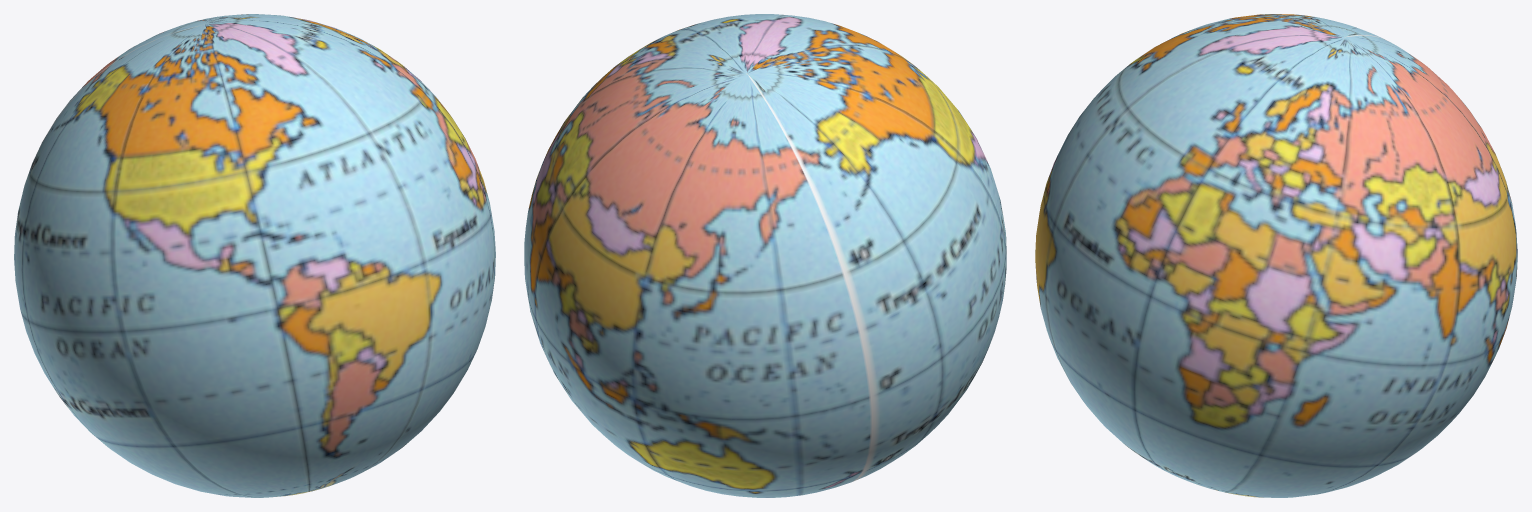
File: globo.obj
3 views of the same model, side by side, from view 1: azimuth 30°, elevation 25°; view 2: azimuth 150°, elevation 25°; view 3: azimuth 270°, elevation 25° (orthographic).
Visible parts, largest first — view 1: globe:Object01; view 2: globe:Object01; view 3: globe:Object01.
Part boxes in pixels (left/top/right/bottom): globe:Object01: left=14, top=14, right=495, bottom=497; globe:Object01: left=524, top=14, right=1006, bottom=497; globe:Object01: left=1035, top=14, right=1517, bottom=497.
Bounding box in the file's own units: 0.9752 × 0.9802 × 0.9762.
1 material, 1 textured.
